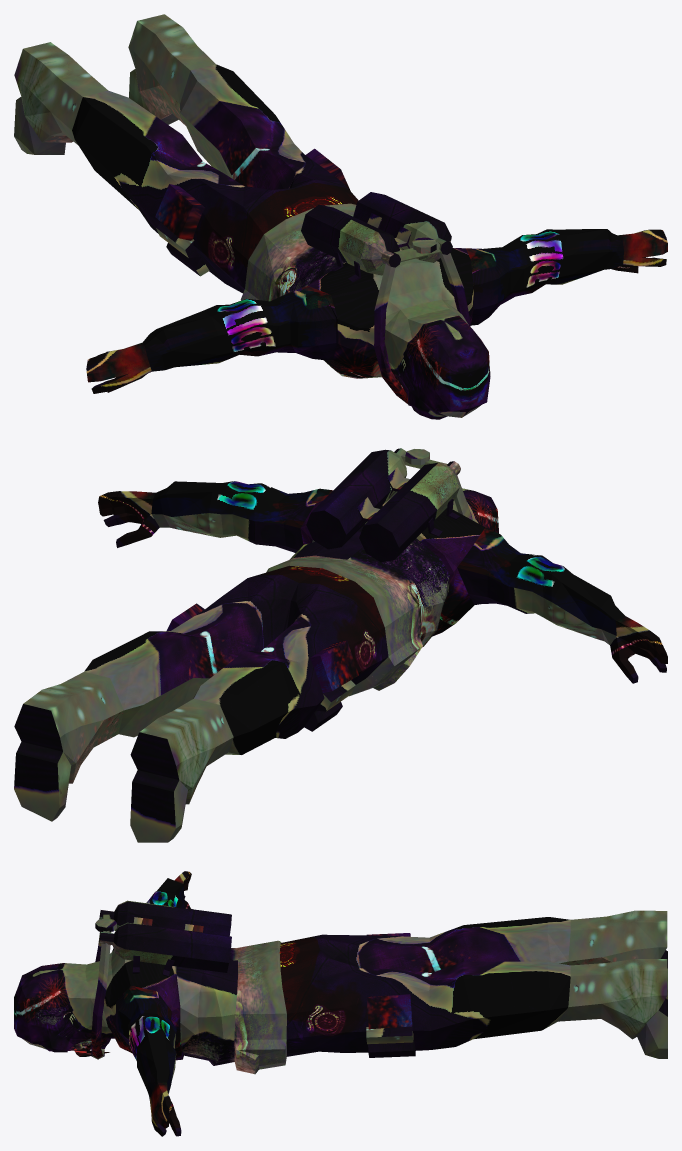
Rendered from fatscifizombieB_wtf.obj.
3 renders of one model, top to bottom at view 1: azimuth 30°, elevation 25°; view 2: azimuth 150°, elevation 25°; view 3: azimuth 270°, elevation 25°, orthographic. The views are drawn at different scales.
Parts seen in each view (by area): view 1: group1; view 2: group1; view 3: group1, group2.
Part boxes in pixels (x1,y1,x2,y2): group1: (14, 14, 667, 419); group1: (14, 448, 667, 842); group1: (14, 871, 667, 1136); group2: (35, 1008, 91, 1049).
Bounding box in the file's own units: 576 × 161 × 660.
